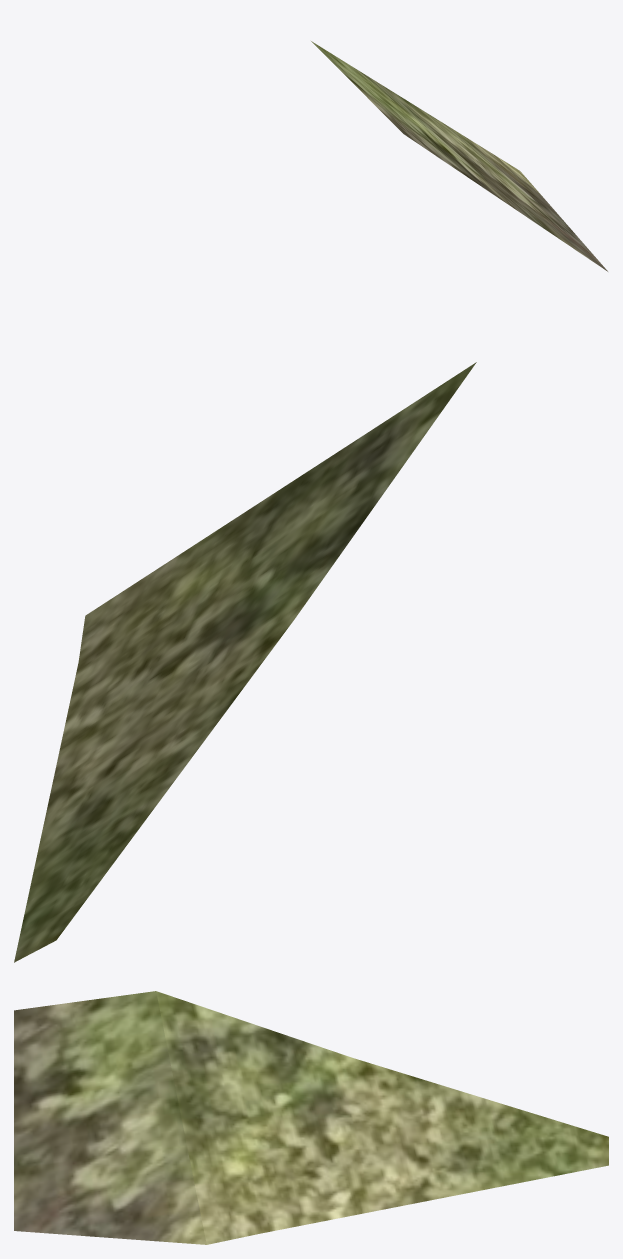
3 views of the same model, one above another, from view 1: azimuth 30°, elevation 25°; view 2: azimuth 150°, elevation 25°; view 3: azimuth 270°, elevation 25° (orthographic). The views are drawn at different scales.
Size of the model in its own units: 1.06 by 0.8937 by 2.95.
Materials: 1 (1 with a texture image).
